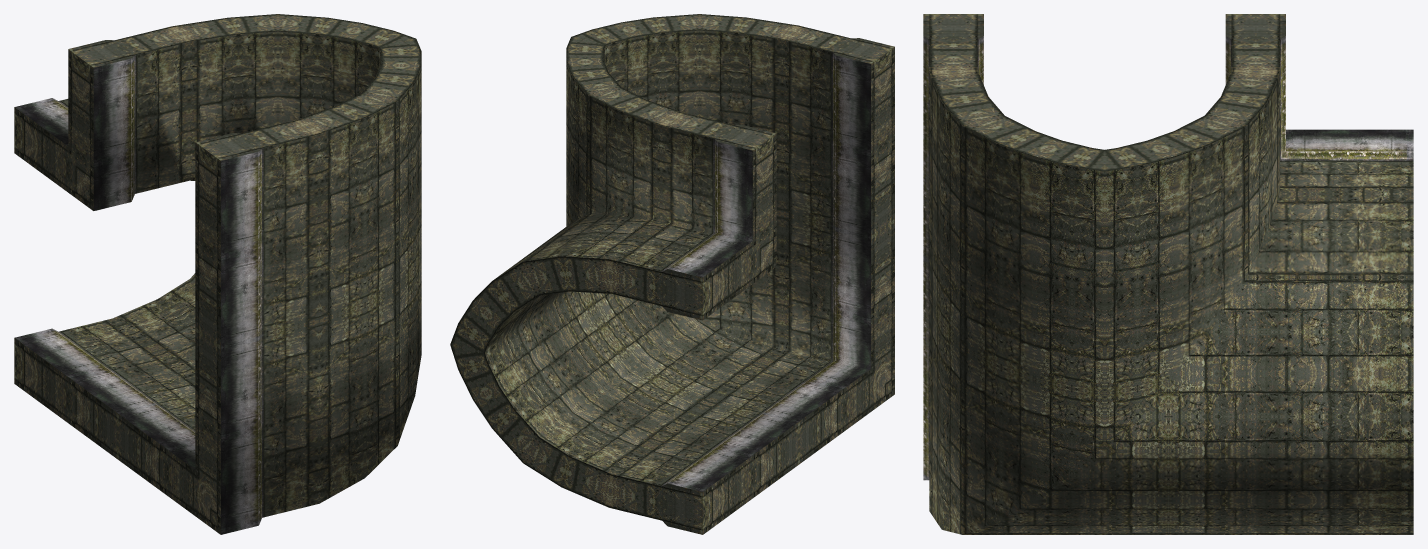
Rendered from Lab_ArcCorner.gltf.
3 renders of one model, left to right at view 1: azimuth 30°, elevation 25°; view 2: azimuth 150°, elevation 25°; view 3: azimuth 270°, elevation 25°, orthographic. The views are drawn at different scales.
Visible parts, largest first — view 1: Lab_ArcCorner; view 2: Lab_ArcCorner; view 3: Lab_ArcCorner.
Boxes of the visible parts, x1,y1,x2,y2 form: Lab_ArcCorner: (14, 14, 421, 534); Lab_ArcCorner: (450, 14, 894, 534); Lab_ArcCorner: (923, 14, 1413, 534).
Size of the model in its own units: 0.0494 by 0.065 by 0.065.
1 material, 1 textured.
